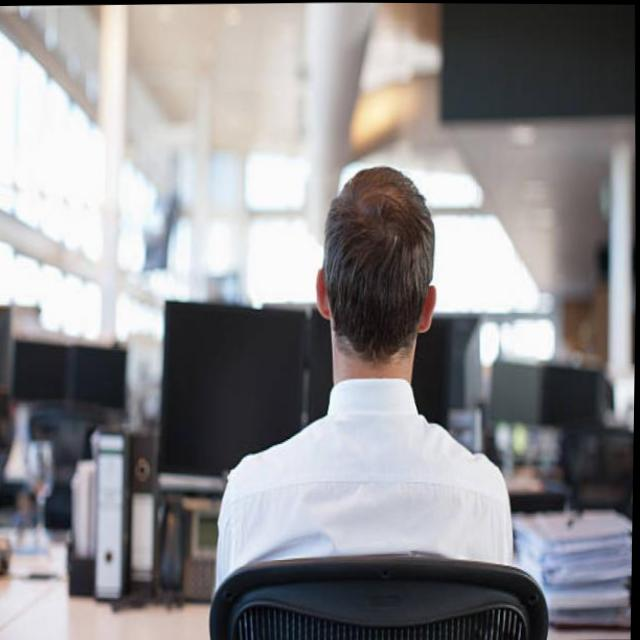no helmet: (315, 153, 446, 405)
